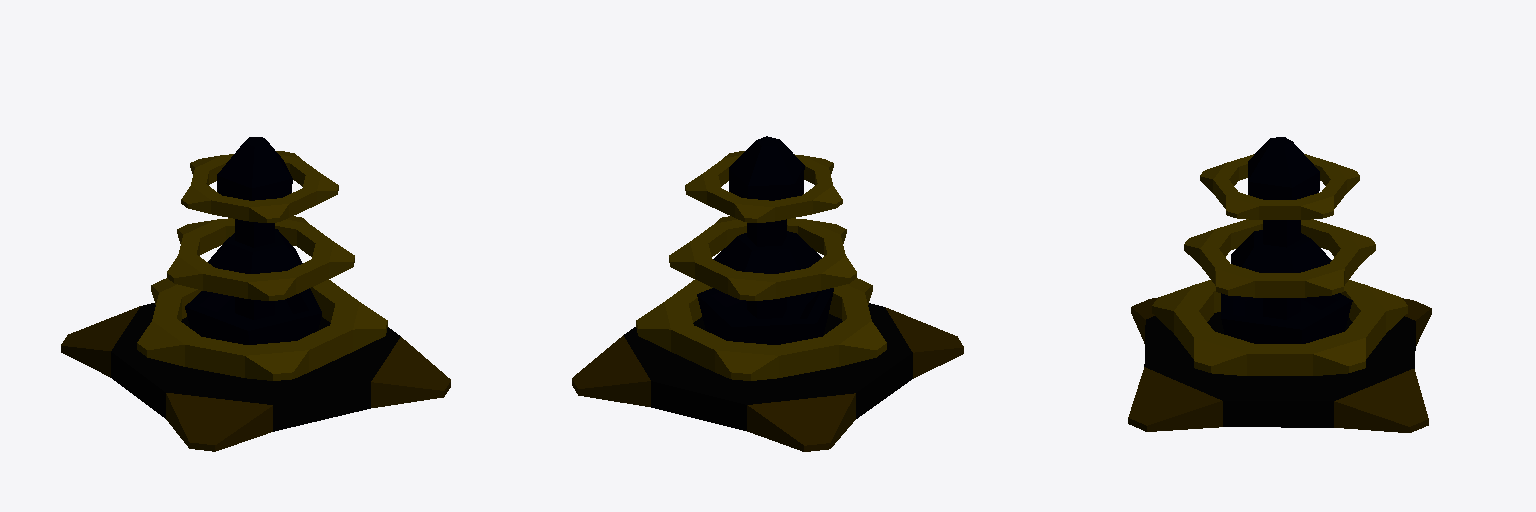
Rendered from EMPTurret1.obj.
3 views of the same model, side by side, from view 1: azimuth 30°, elevation 25°; view 2: azimuth 150°, elevation 25°; view 3: azimuth 270°, elevation 25° (orthographic).
Parts seen in each view (by area): view 1: BaseEMPTurret1, MiddleEMPTurret1, Ring1EMPTurret1, Ring2EMPTurret1, Ring3EMPTurret1; view 2: BaseEMPTurret1, MiddleEMPTurret1, Ring1EMPTurret1, Ring2EMPTurret1, Ring3EMPTurret1; view 3: BaseEMPTurret1, MiddleEMPTurret1, Ring1EMPTurret1, Ring2EMPTurret1, Ring3EMPTurret1.
Part boxes in pixels (bbox=[...]): BaseEMPTurret1: bbox=[61, 303, 450, 451]; MiddleEMPTurret1: bbox=[185, 137, 321, 344]; Ring1EMPTurret1: bbox=[137, 278, 387, 380]; Ring2EMPTurret1: bbox=[167, 216, 354, 300]; Ring3EMPTurret1: bbox=[181, 151, 338, 222]; BaseEMPTurret1: bbox=[572, 303, 963, 451]; MiddleEMPTurret1: bbox=[697, 136, 833, 344]; Ring1EMPTurret1: bbox=[636, 278, 886, 380]; Ring2EMPTurret1: bbox=[669, 216, 856, 300]; Ring3EMPTurret1: bbox=[685, 151, 842, 222]; BaseEMPTurret1: bbox=[1128, 297, 1431, 432]; MiddleEMPTurret1: bbox=[1221, 137, 1352, 343]; Ring1EMPTurret1: bbox=[1152, 280, 1407, 375]; Ring2EMPTurret1: bbox=[1184, 219, 1375, 297]; Ring3EMPTurret1: bbox=[1200, 154, 1359, 219].
Size of the model in its own units: 3.55 by 2.95 by 3.55.